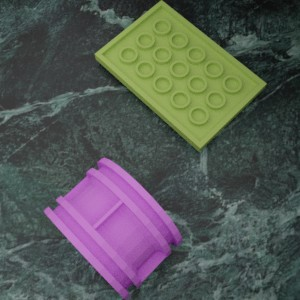lego: (94, 0, 266, 152), (43, 157, 182, 300)
